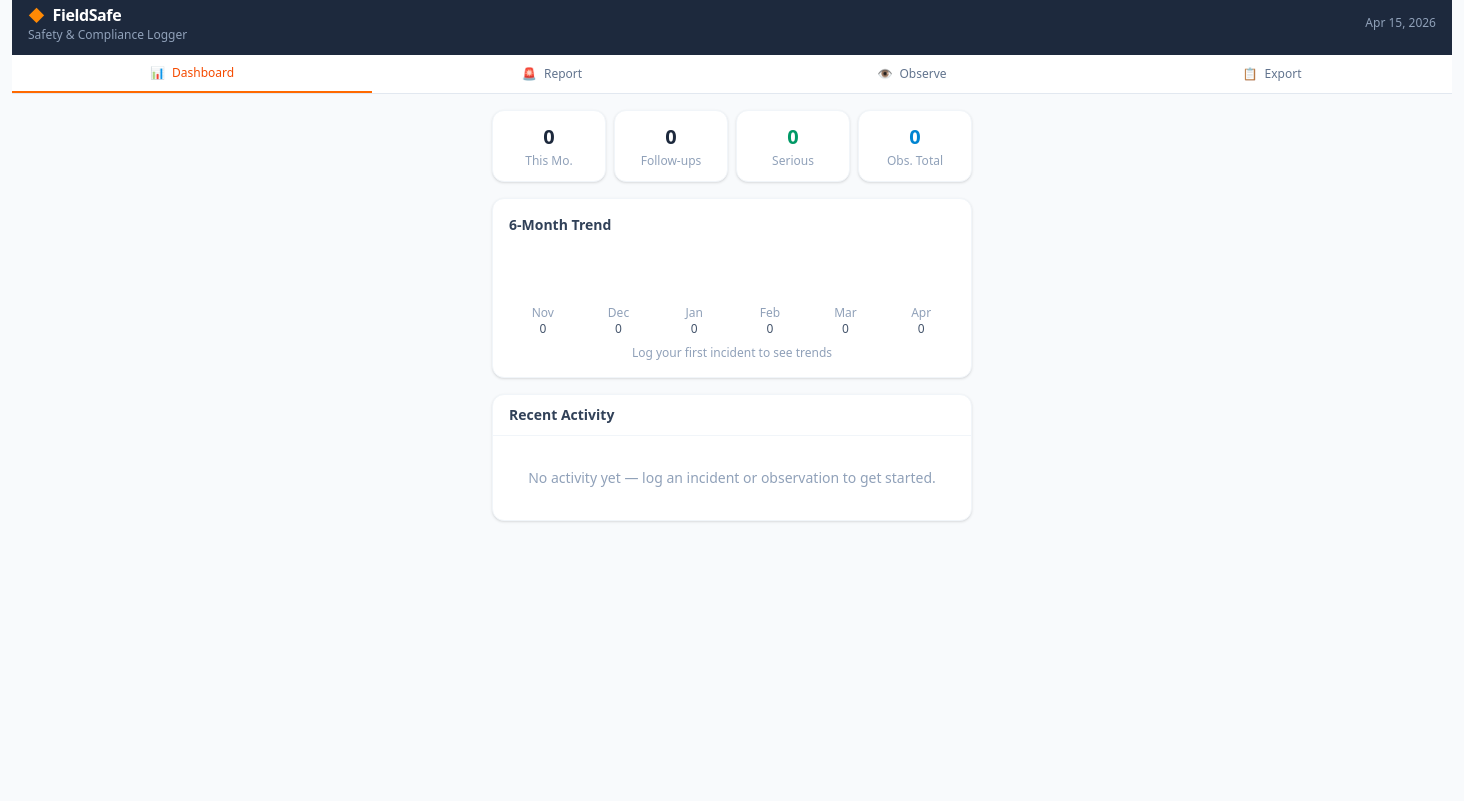
Smoke test › navigates to Report tab and shows form
Click the button "🚨 Report": click(552, 74) [372, 55, 732, 93]
(page scrolled)
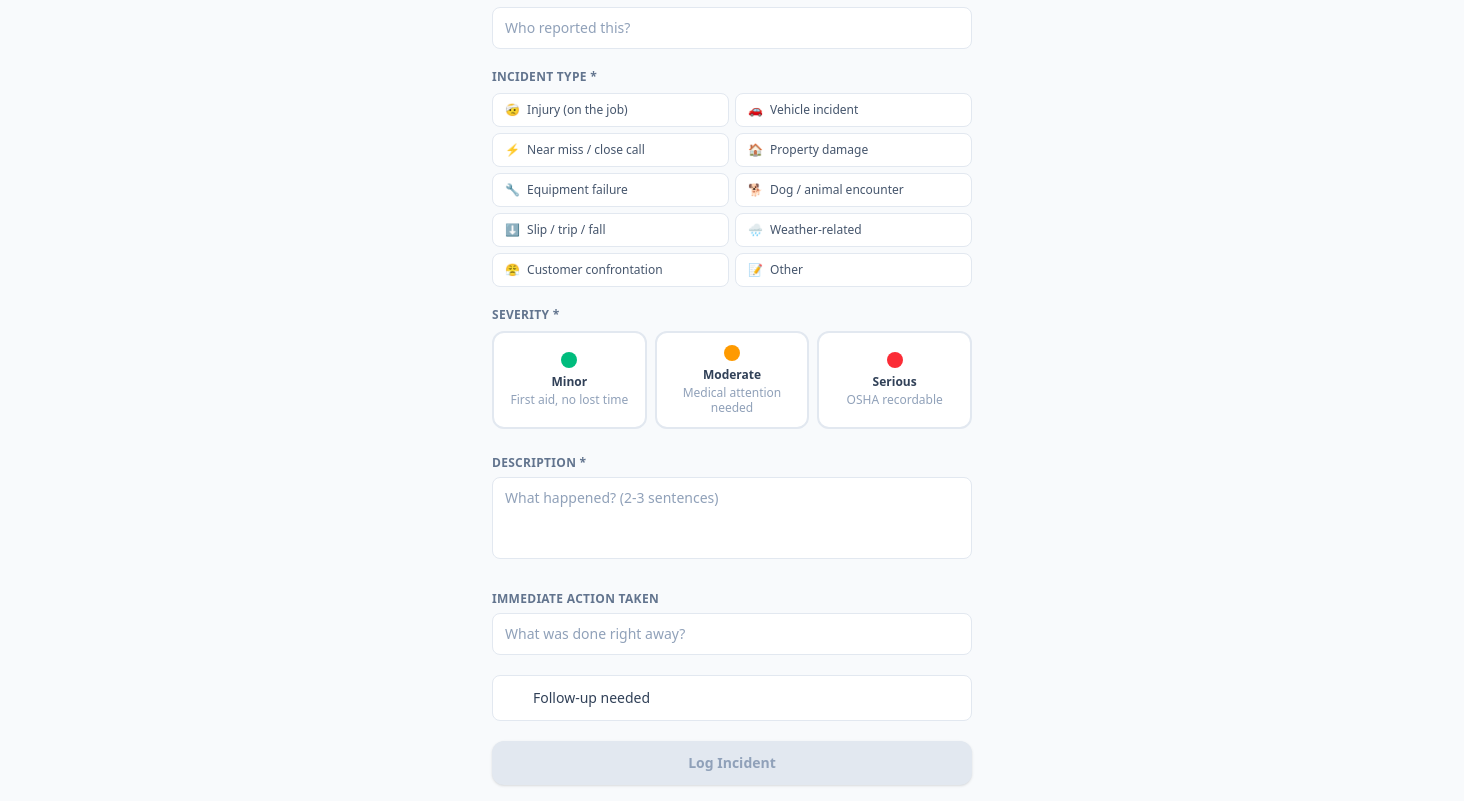
Expected: the text "Incident Type *" is shown, [492, 68, 597, 85]
Expected: the text "Severity *" is shown, [492, 306, 560, 323]
Expected: the text "Description *" is shown, [492, 454, 586, 471]
